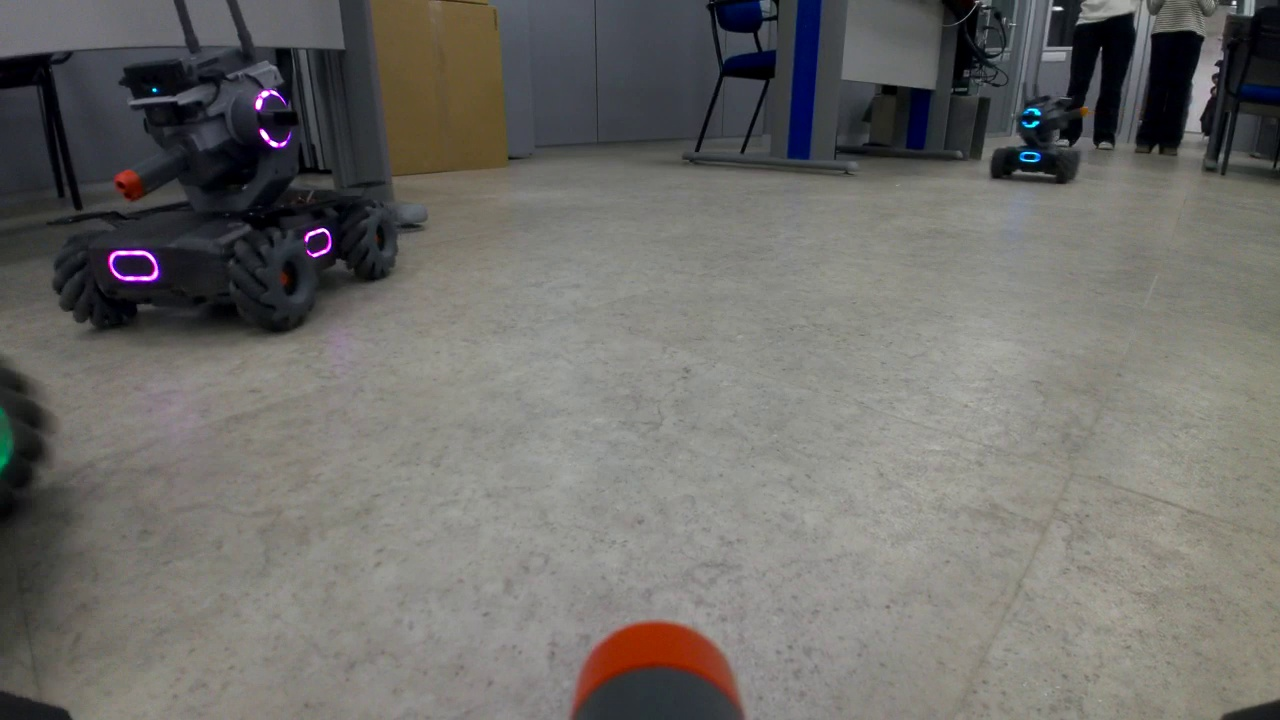robot: (51, 53, 400, 338), (989, 95, 1092, 186)
